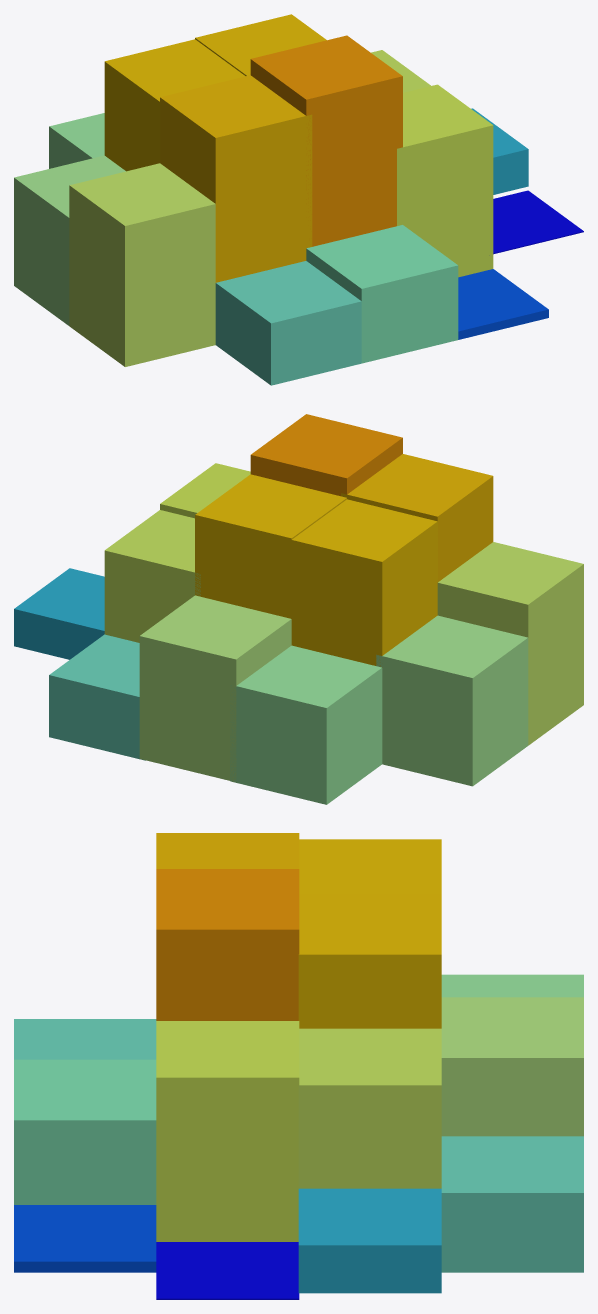
The model's file is population.glb.
3 renders of one model, top to bottom at view 1: azimuth 30°, elevation 25°; view 2: azimuth 150°, elevation 25°; view 3: azimuth 270°, elevation 25°, orthographic. The views are drawn at different scales.
Visible parts, largest first — view 1: population; view 2: population; view 3: population.
Part boxes in pixels (x1,y1,x2,y2): population: [14, 14, 583, 385]; population: [14, 414, 583, 804]; population: [14, 833, 583, 1299].
Size of the model in its own units: 475 by 221 by 398.
